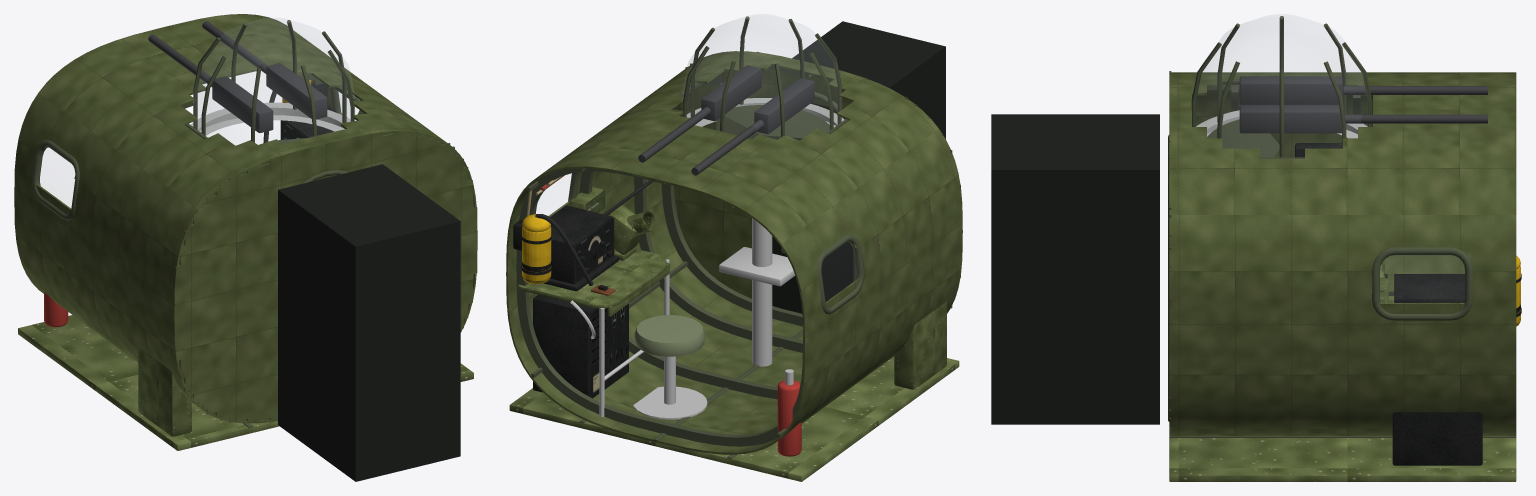
Rendered from b24-aft-deck.glb.
3 views of the same model, side by side, from view 1: azimuth 30°, elevation 25°; view 2: azimuth 150°, elevation 25°; view 3: azimuth 270°, elevation 25° (orthographic). The views are drawn at different scales.
Visible parts, largest first — view 1: deck_bronze_green, bay_dark, deck_floor, plexiglas, deck_frame, gunmetal, olive_drab, aluminium, extinguisher_red, black_crinkle; view 2: deck_bronze_green, deck_frame, deck_floor, bay_dark, olive_drab, aluminium, plexiglas, black_crinkle, gunmetal, bc375_front, green_padding, oxygen_yellow (+3 smaller); view 3: deck_bronze_green, bay_dark, deck_floor, plexiglas, deck_frame, gunmetal, black_crinkle, aluminium.
Part boxes in pixels (left/top/right/bottom): deck_bronze_green: left=14, top=14, right=477, bottom=423; bay_dark: left=278, top=164, right=460, bottom=481; deck_floor: left=18, top=315, right=473, bottom=450; plexiglas: left=193, top=18, right=355, bottom=129; deck_frame: left=32, top=20, right=473, bottom=427; gunmetal: left=148, top=21, right=327, bottom=132; olive_drab: left=138, top=347, right=191, bottom=436; aluminium: left=190, top=102, right=350, bottom=135; extinguisher_red: left=44, top=292, right=68, bottom=327; black_crinkle: left=281, top=81, right=337, bottom=139; deck_bronze_green: left=506, top=51, right=962, bottom=454; deck_frame: left=516, top=16, right=864, bottom=458; deck_floor: left=509, top=356, right=959, bottom=481; bay_dark: left=772, top=21, right=945, bottom=313; olive_drab: left=517, top=186, right=946, bottom=389; aluminium: left=570, top=98, right=844, bottom=419; plexiglas: left=682, top=14, right=841, bottom=124; black_crinkle: left=513, top=205, right=619, bottom=396; gunmetal: left=638, top=65, right=814, bottom=175; bc375_front: left=590, top=303, right=628, bottom=398; green_padding: left=634, top=315, right=705, bottom=356; oxygen_yellow: left=522, top=214, right=551, bottom=283; deck_bronze_green: left=1169, top=71, right=1516, bottom=436; bay_dark: left=991, top=114, right=1159, bottom=424; deck_floor: left=1169, top=438, right=1516, bottom=481; plexiglas: left=1196, top=14, right=1367, bottom=129; deck_frame: left=1168, top=16, right=1516, bottom=437; gunmetal: left=1239, top=76, right=1487, bottom=133; black_crinkle: left=1295, top=143, right=1521, bottom=465; aluminium: left=1196, top=110, right=1367, bottom=138.
Bounding box in the file's own units: 2.05 × 2.24 × 2.83.
Materials: 21 (11 with a texture image).
